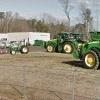Tractor: (41, 22, 100, 61)
